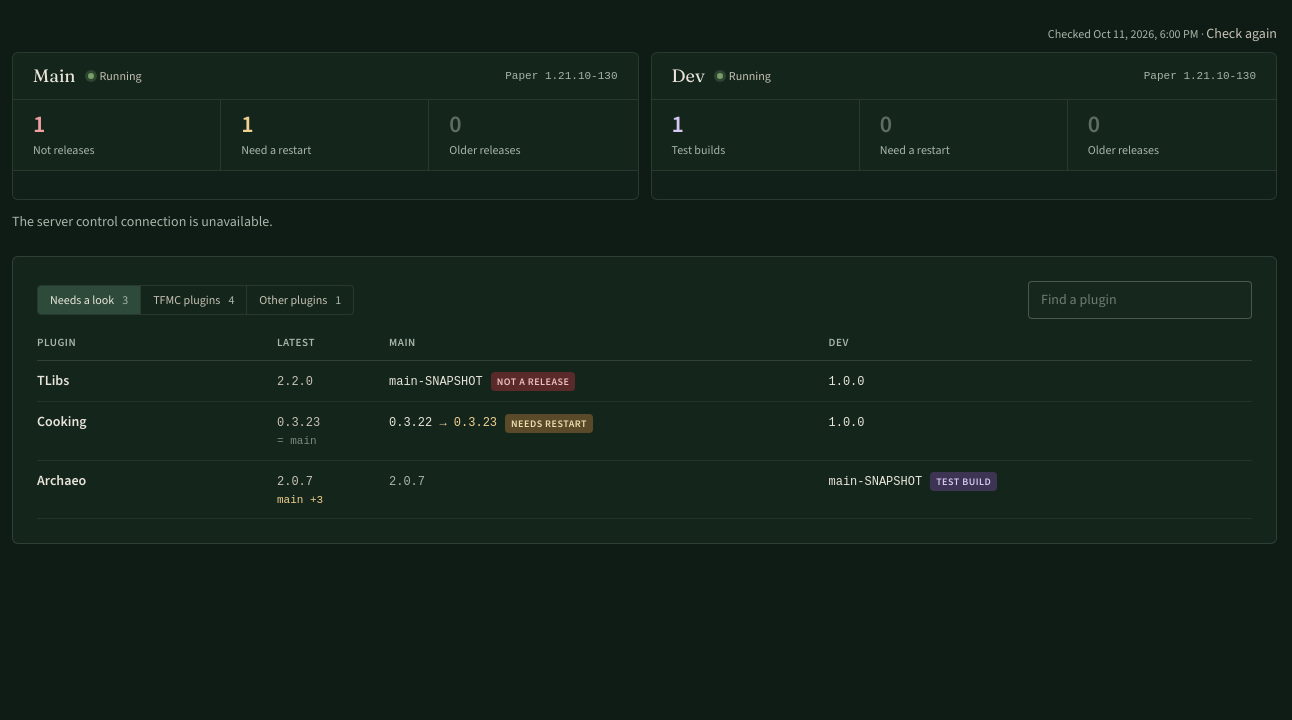
Test case: shows a failed fresh check without relabelling the previous result
The image size is (1292, 720).
Expected: the link "= main" is shown, [277,433,317,450]
Click the button "Check again": x=1242, y=34 [1206,24,1277,44]
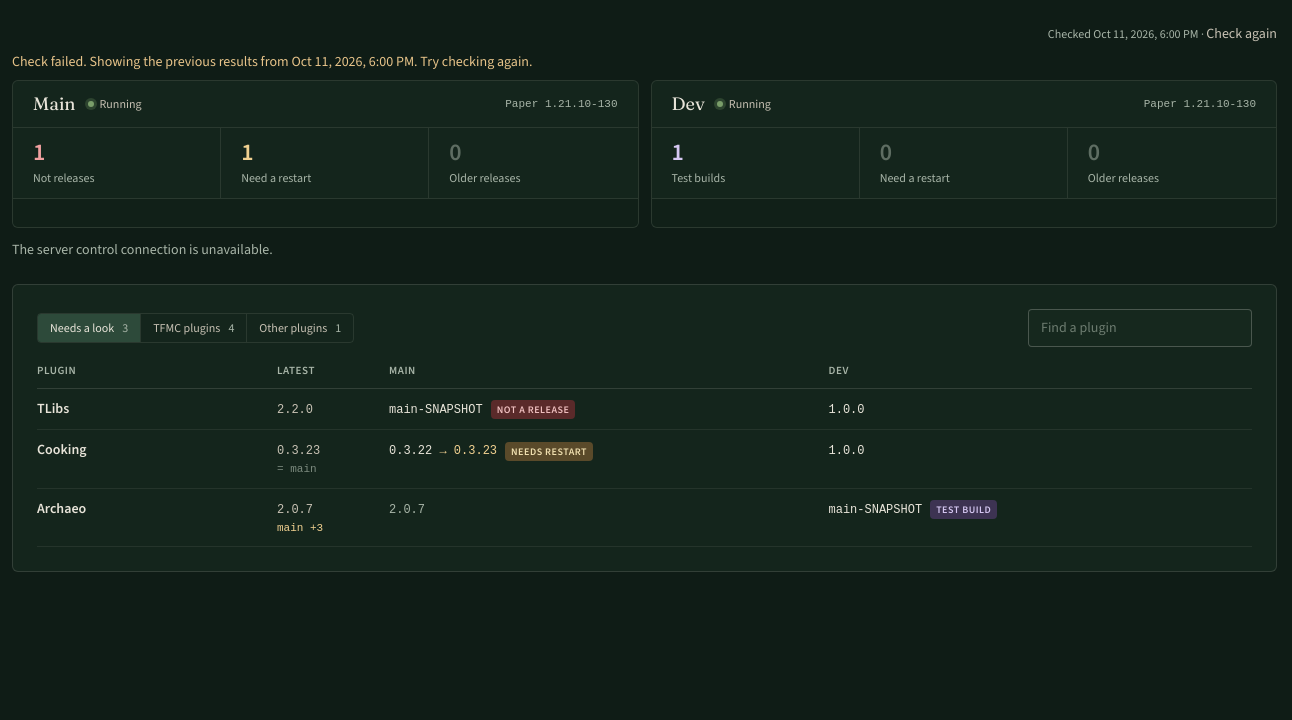
Expected: the link "= main" is shown, [277,461,317,478]
Expected: the text "Check failed" is shown, [12,52,291,71]
